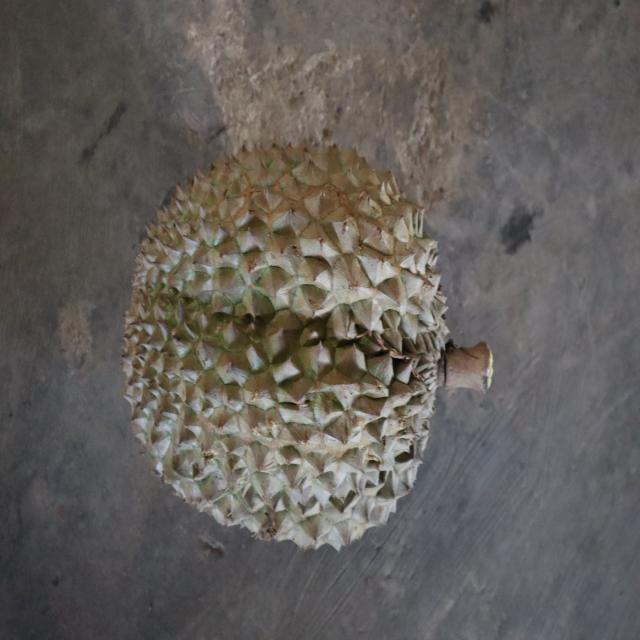mature: (120, 140, 446, 547)
